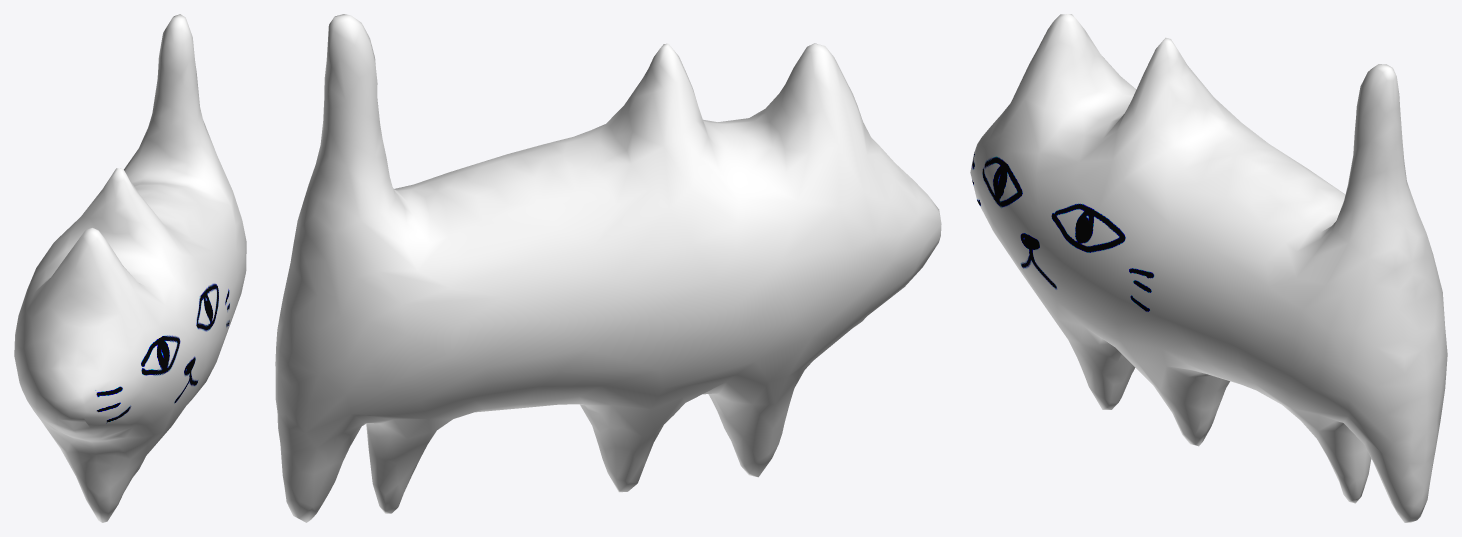
The model's file is neco.glb.
The picture shows the model from 3 angles, left to right: view 1: azimuth 30°, elevation 25°; view 2: azimuth 150°, elevation 25°; view 3: azimuth 270°, elevation 25°; orthographic projection. The views are drawn at different scales.
Parts seen in each view (by area): view 1: mm_frame; view 2: mm_frame; view 3: mm_frame.
Boxes of the visible parts, <box> form: mm_frame: <box>14,14,246,522</box>; mm_frame: <box>275,14,941,522</box>; mm_frame: <box>970,14,1447,522</box>.
Size of the model in its own units: 0.3538 by 0.3837 by 0.3641.
1 material, 1 textured.
